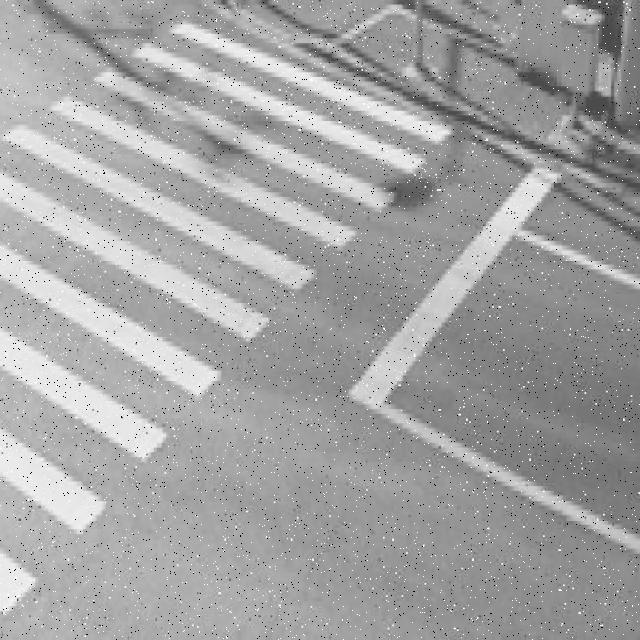crosswalk: (0, 19, 454, 619)
